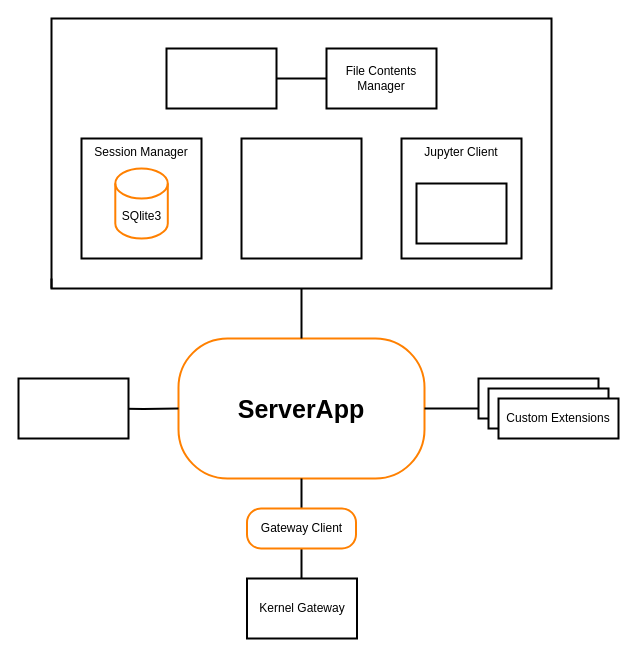
This 636x656 diagram has some shape labels left out. The shapes that lost their labels are listed below. From the top down, each one's centre as x and y in pixels, then its label:
At pixel 221 78: "Contents Manager".
At pixel 301 198: "Mapping Kernel Manager".
At pixel 461 213: "Kernel Spec Manager".
At pixel 73 408: "Config Manager".
